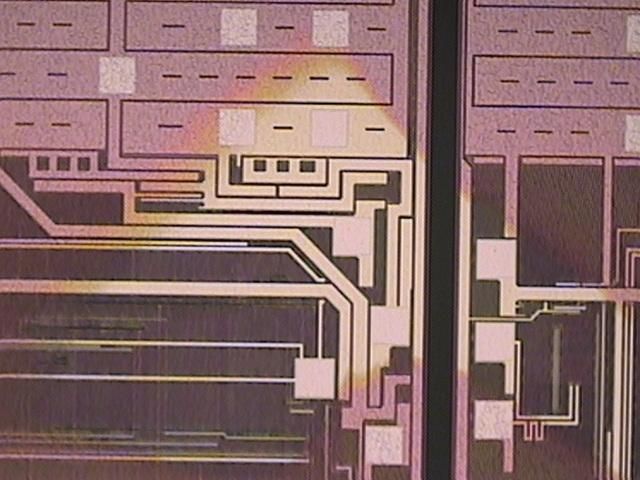COATING BAD: (1, 30, 640, 480)
